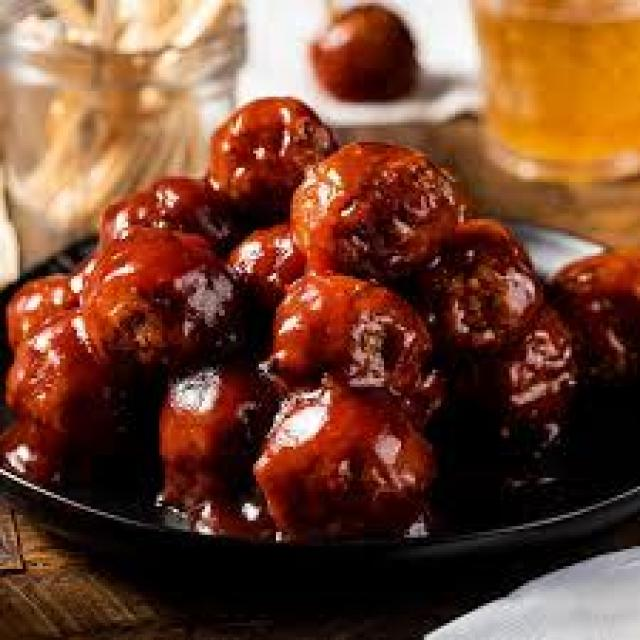Meatball: (281, 119, 478, 283), (246, 378, 444, 534), (62, 217, 236, 370), (189, 87, 350, 222), (270, 263, 428, 395)
